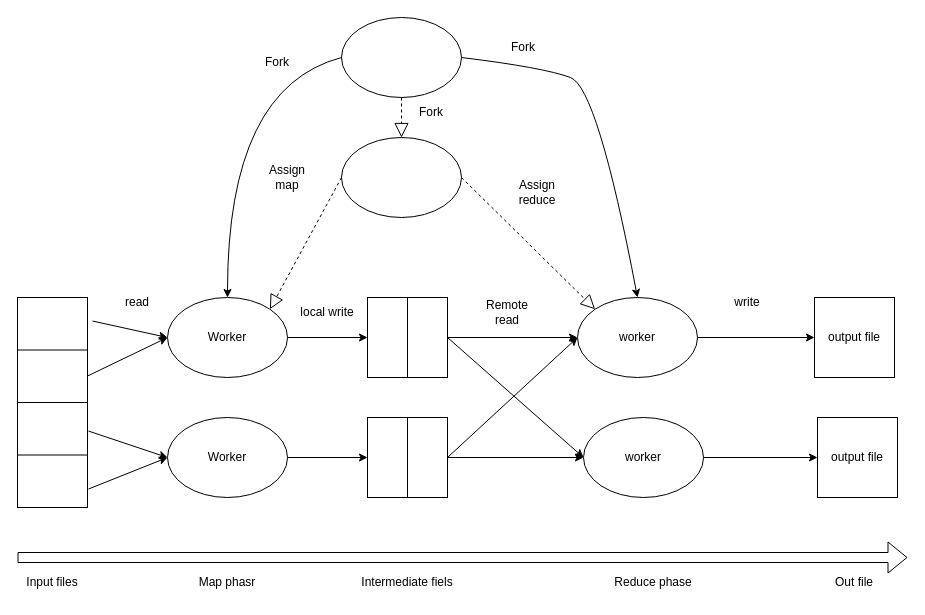
The diagram is 925 pixels wide and 615 high, and some of its shapes have lost their labels. The box of each missing label's shape, as (x1, y1, x2, y2) in pixels:
Master: (340, 136, 462, 218)
User Programe: (340, 16, 462, 98)
